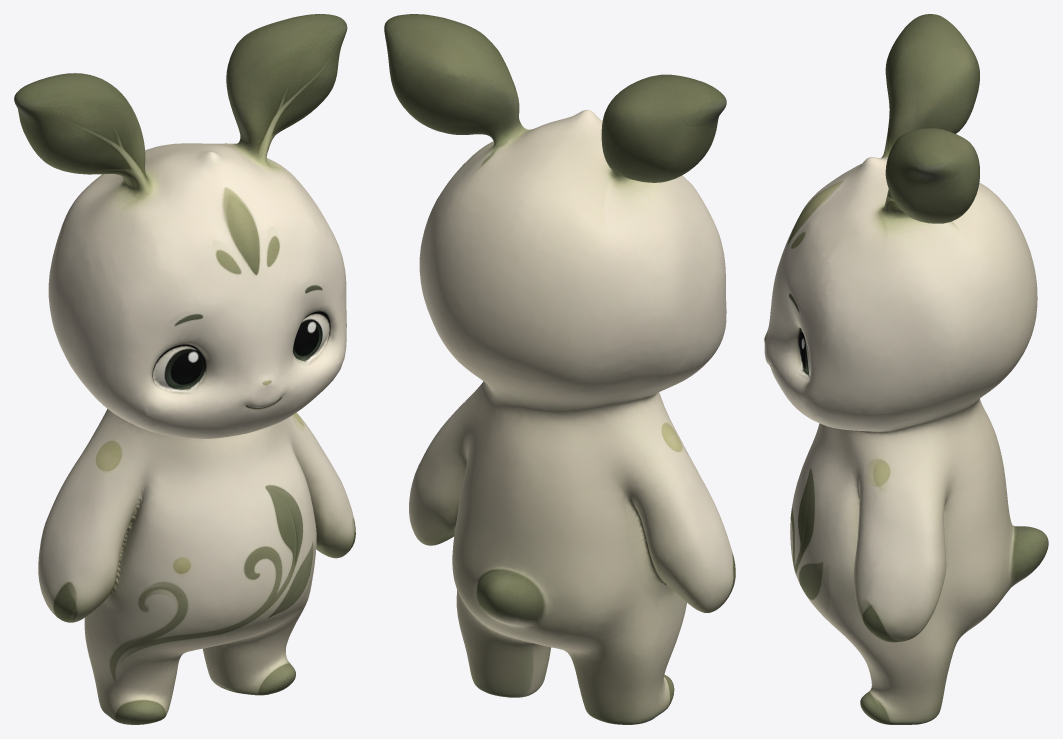
Rendered from curbi-idle.glb.
The picture shows the model from 3 angles, left to right: view 1: azimuth 30°, elevation 25°; view 2: azimuth 150°, elevation 25°; view 3: azimuth 270°, elevation 25°; orthographic projection. The views are drawn at different scales.
Size of the model in its own units: 1.02 by 1.9 by 0.8075.
1 material, 1 textured.
